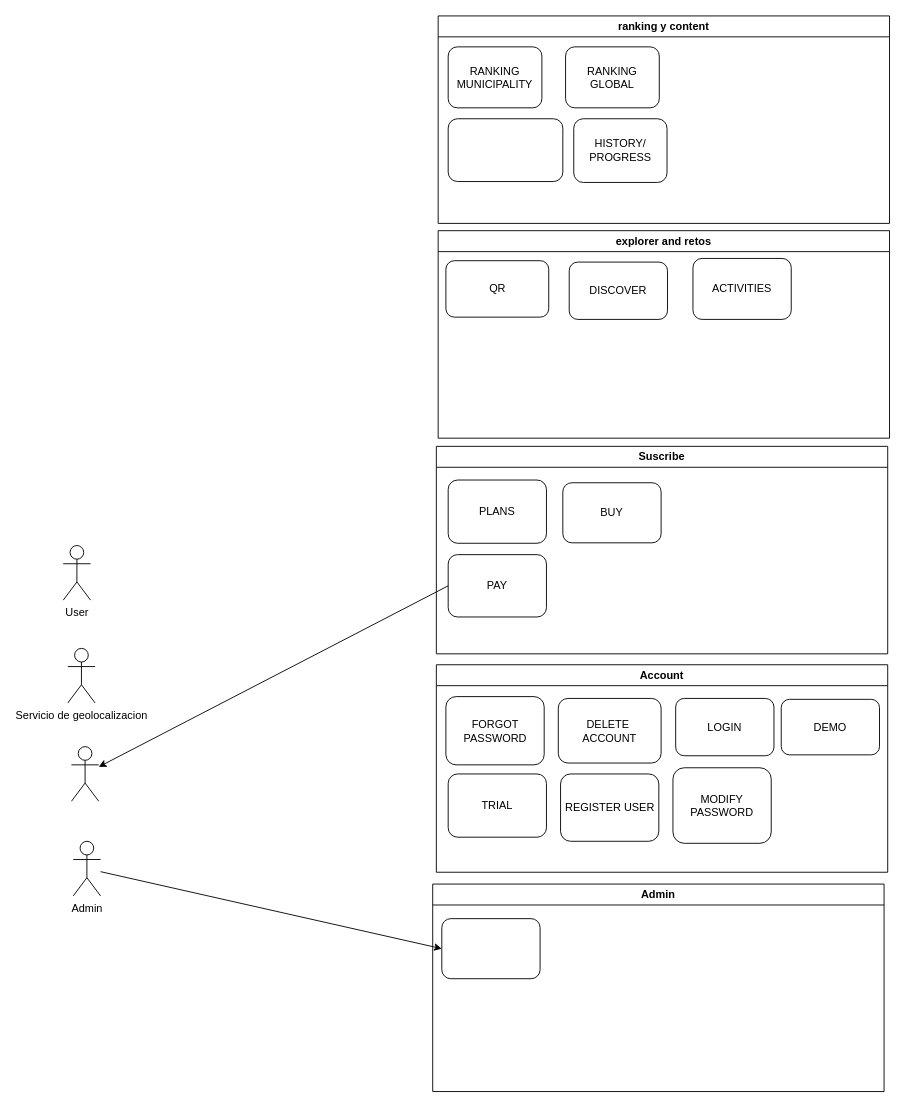
Image size: 905x1107. Some labels were removed from this diagram. Each missing label, with the centre of its shape:
ADD OR MODIFY ACTIVITIES: the point at 490,948
Pasarela de pago: the point at 85,773
RECOMMENDATION: the point at 505,150
